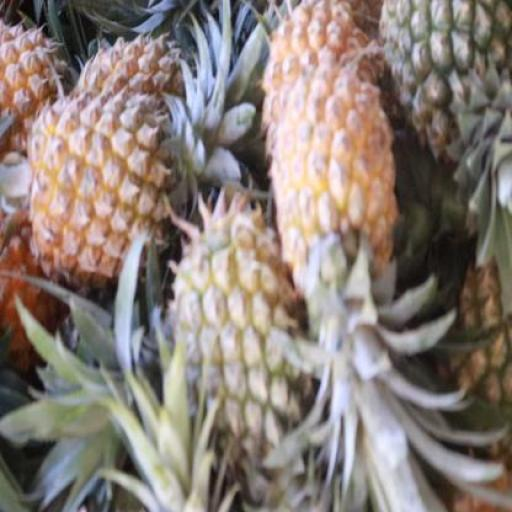------------------------------: (163, 225, 308, 475), (380, 0, 511, 165)
Pineapple - v8 v1: (278, 73, 390, 317), (28, 101, 166, 282)
